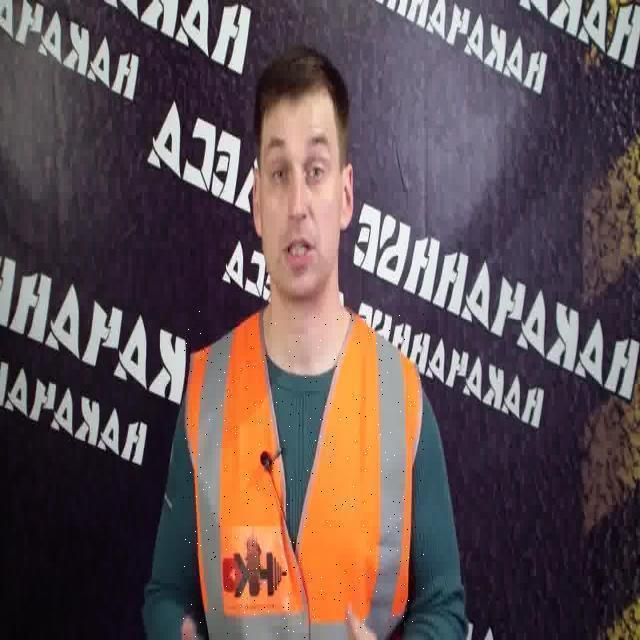safety_vest: (182, 310, 424, 638)
